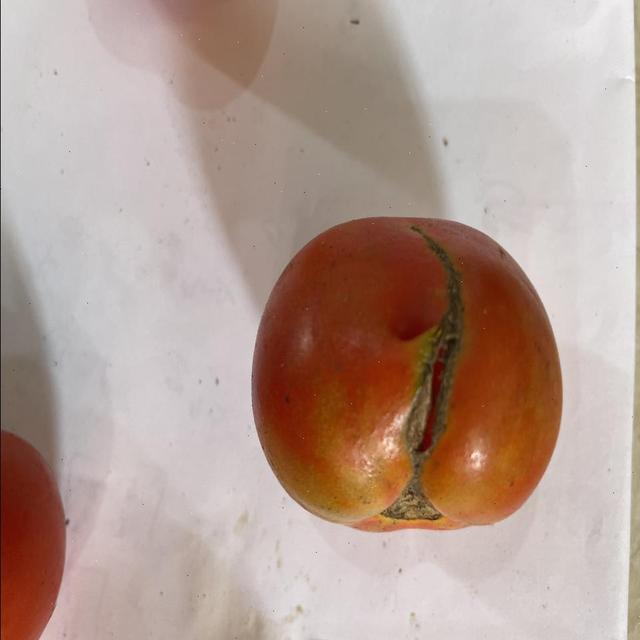Cracking Fruit: (128, 133, 400, 462)
